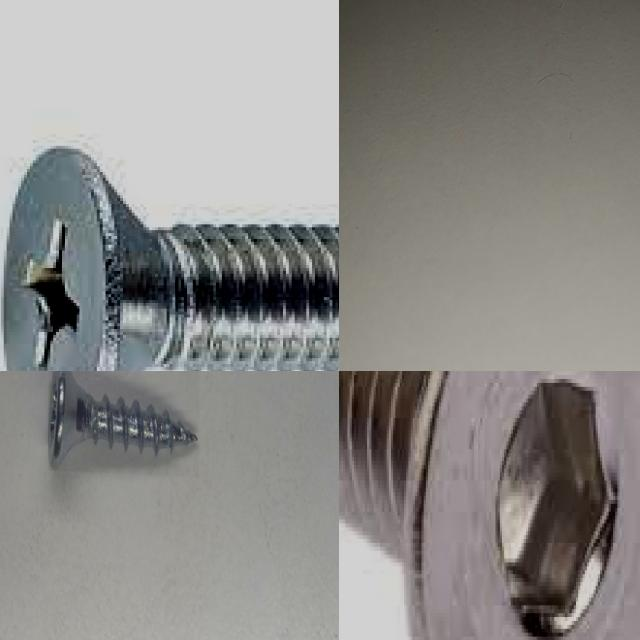Screw: (339, 371, 640, 640), (1, 149, 339, 371), (49, 371, 197, 468)
